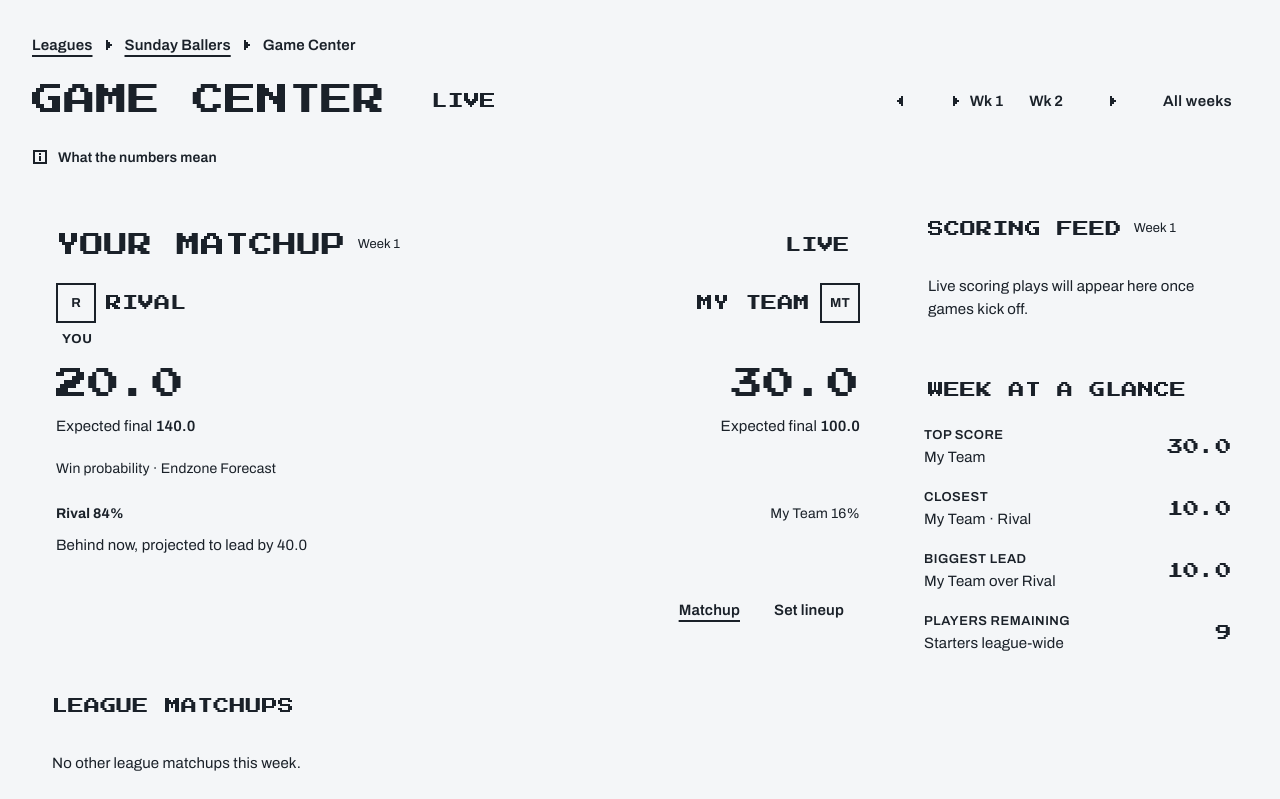
Test: for an away viewer the grid names the viewer Team first on its own Matchup card and home first on every other (#2403)
Expected: the element with test id "matchup-hero" is shown, [32, 203, 884, 656]
Click the button "All weeks": (1197, 101) [1147, 79, 1248, 123]
(page scrolled)
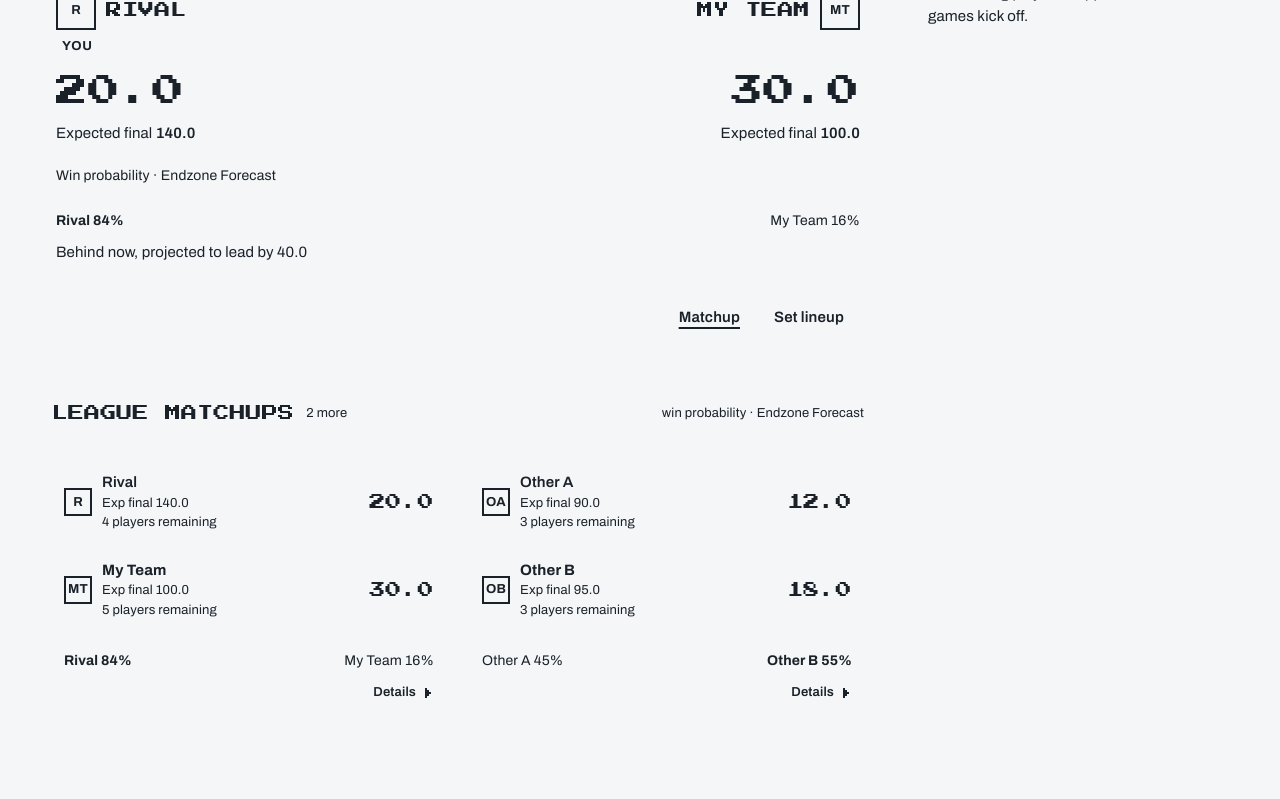
Now the element with test id "matchup-side-home" shows "Rival", box [102, 474, 137, 490]
Now the element with test id "matchup-side-away" shows "My Team", box [102, 562, 166, 578]
Now the element with test id "matchup-side-home" shows "Other A", box [520, 474, 573, 490]
